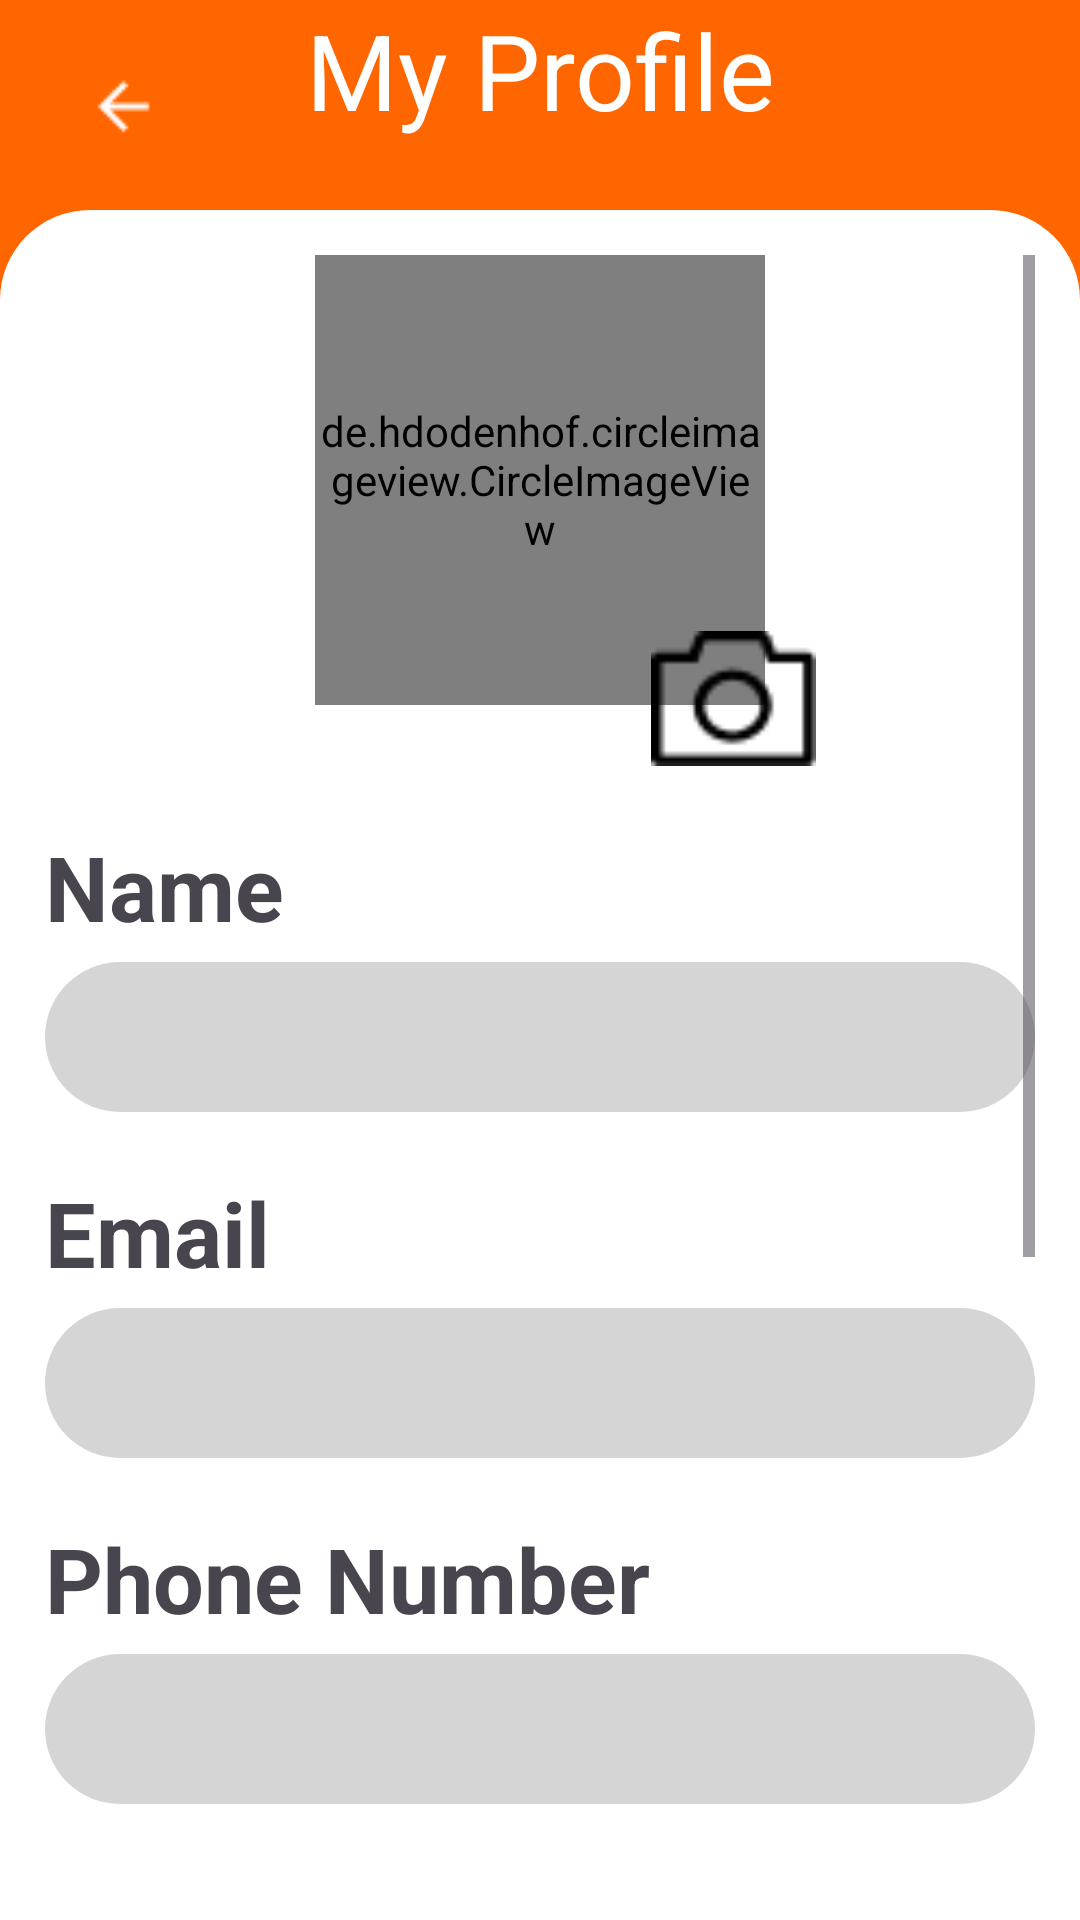

Screen size 1080 x 1920. Icon name, then its center in pixels as (x,y):
arrow back: (123,106)
camera: (733,698)
